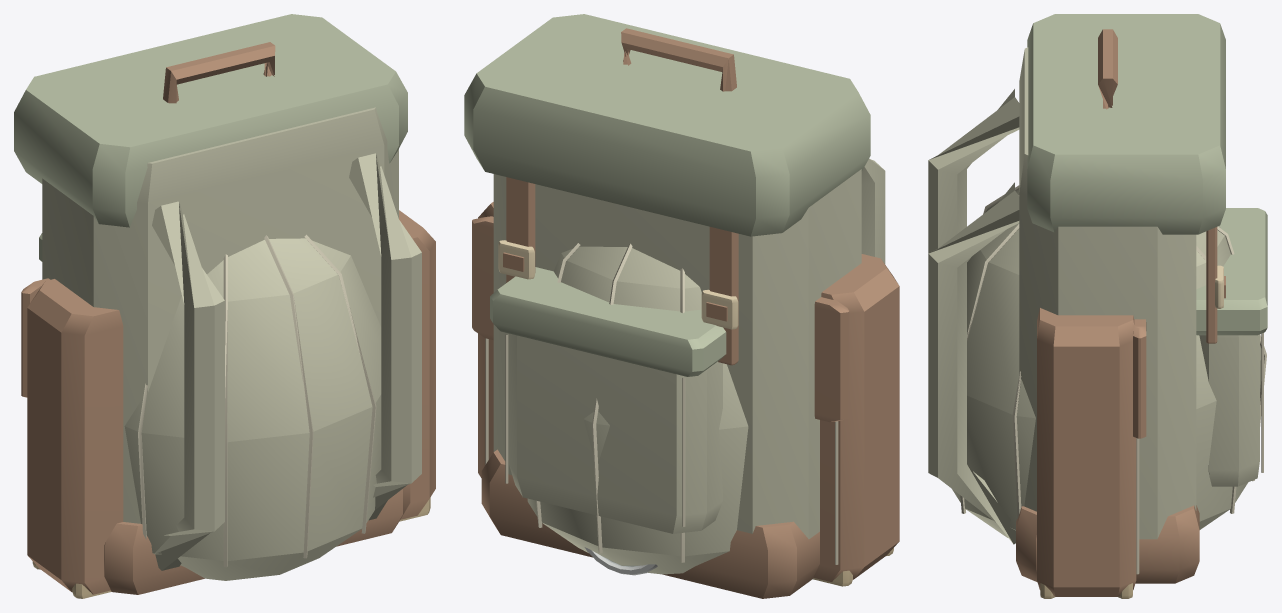
File: loot_props.glb
The picture shows the model from 3 angles, left to right: view 1: azimuth 30°, elevation 25°; view 2: azimuth 150°, elevation 25°; view 3: azimuth 270°, elevation 25°; orthographic projection. The views are drawn at different scales.
Visible parts, largest first — view 1: p_loot_backpack, p_loot_sack, p_loot_briefcase; view 2: p_loot_backpack, p_loot_briefcase, p_loot_sack, p_loot_flashlight; view 3: p_loot_backpack, p_loot_briefcase, p_loot_sack.
Part boxes in pixels (x1,y1,x2,y2): p_loot_backpack: (14, 14, 421, 594); p_loot_sack: (124, 234, 381, 580); p_loot_briefcase: (21, 210, 435, 598); p_loot_backpack: (464, 14, 885, 598); p_loot_briefcase: (472, 202, 899, 586); p_loot_sack: (527, 243, 748, 574); p_loot_flashlight: (584, 547, 657, 575); p_loot_backpack: (928, 14, 1267, 583); p_loot_briefcase: (1037, 308, 1146, 598); p_loot_sack: (952, 185, 1266, 537).
Size of the model in its own units: 0.38 by 0.4607 by 0.307.
